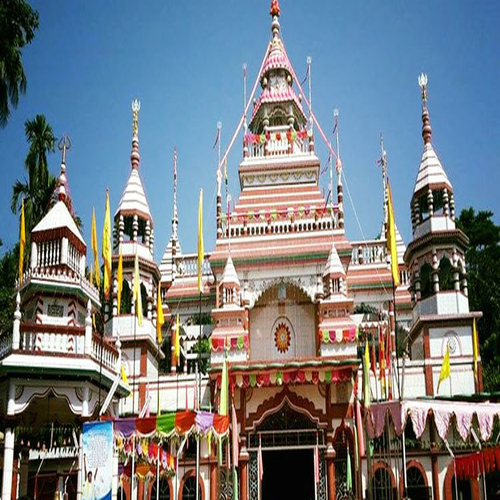Temple: (35, 29, 487, 469)
